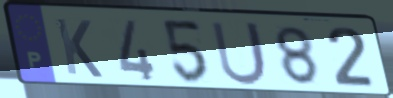2: (325, 25, 379, 90)
4: (116, 17, 158, 83)
5: (160, 17, 212, 87)
8: (270, 24, 322, 87)
K: (52, 16, 106, 80)
U: (208, 19, 270, 88)
